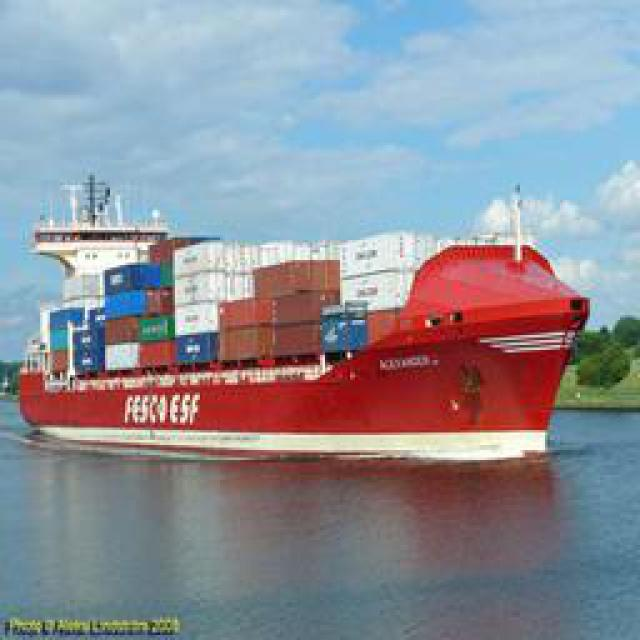Ship: (26, 202, 589, 450)
